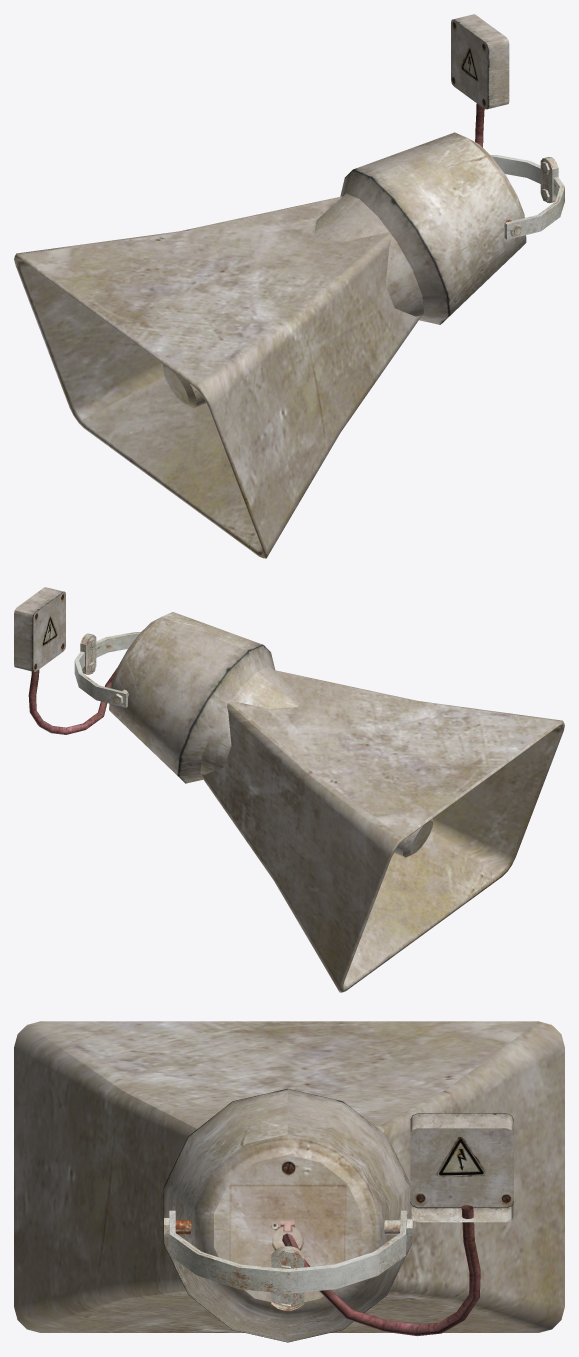
File: Speaker.fbx
3 renders of one model, top to bottom at view 1: azimuth 30°, elevation 25°; view 2: azimuth 150°, elevation 25°; view 3: azimuth 270°, elevation 25°, orthographic. The views are drawn at different scales.
Visible parts, largest first — view 1: Speaker; view 2: Speaker; view 3: Speaker.
Boxes of the visible parts, x1,y1,x2,y2 form: Speaker: (14,14,564,558); Speaker: (14,587,564,992); Speaker: (14,1021,564,1342).
Bounding box in the file's own units: 0.6228 × 0.4388 × 0.4714.
